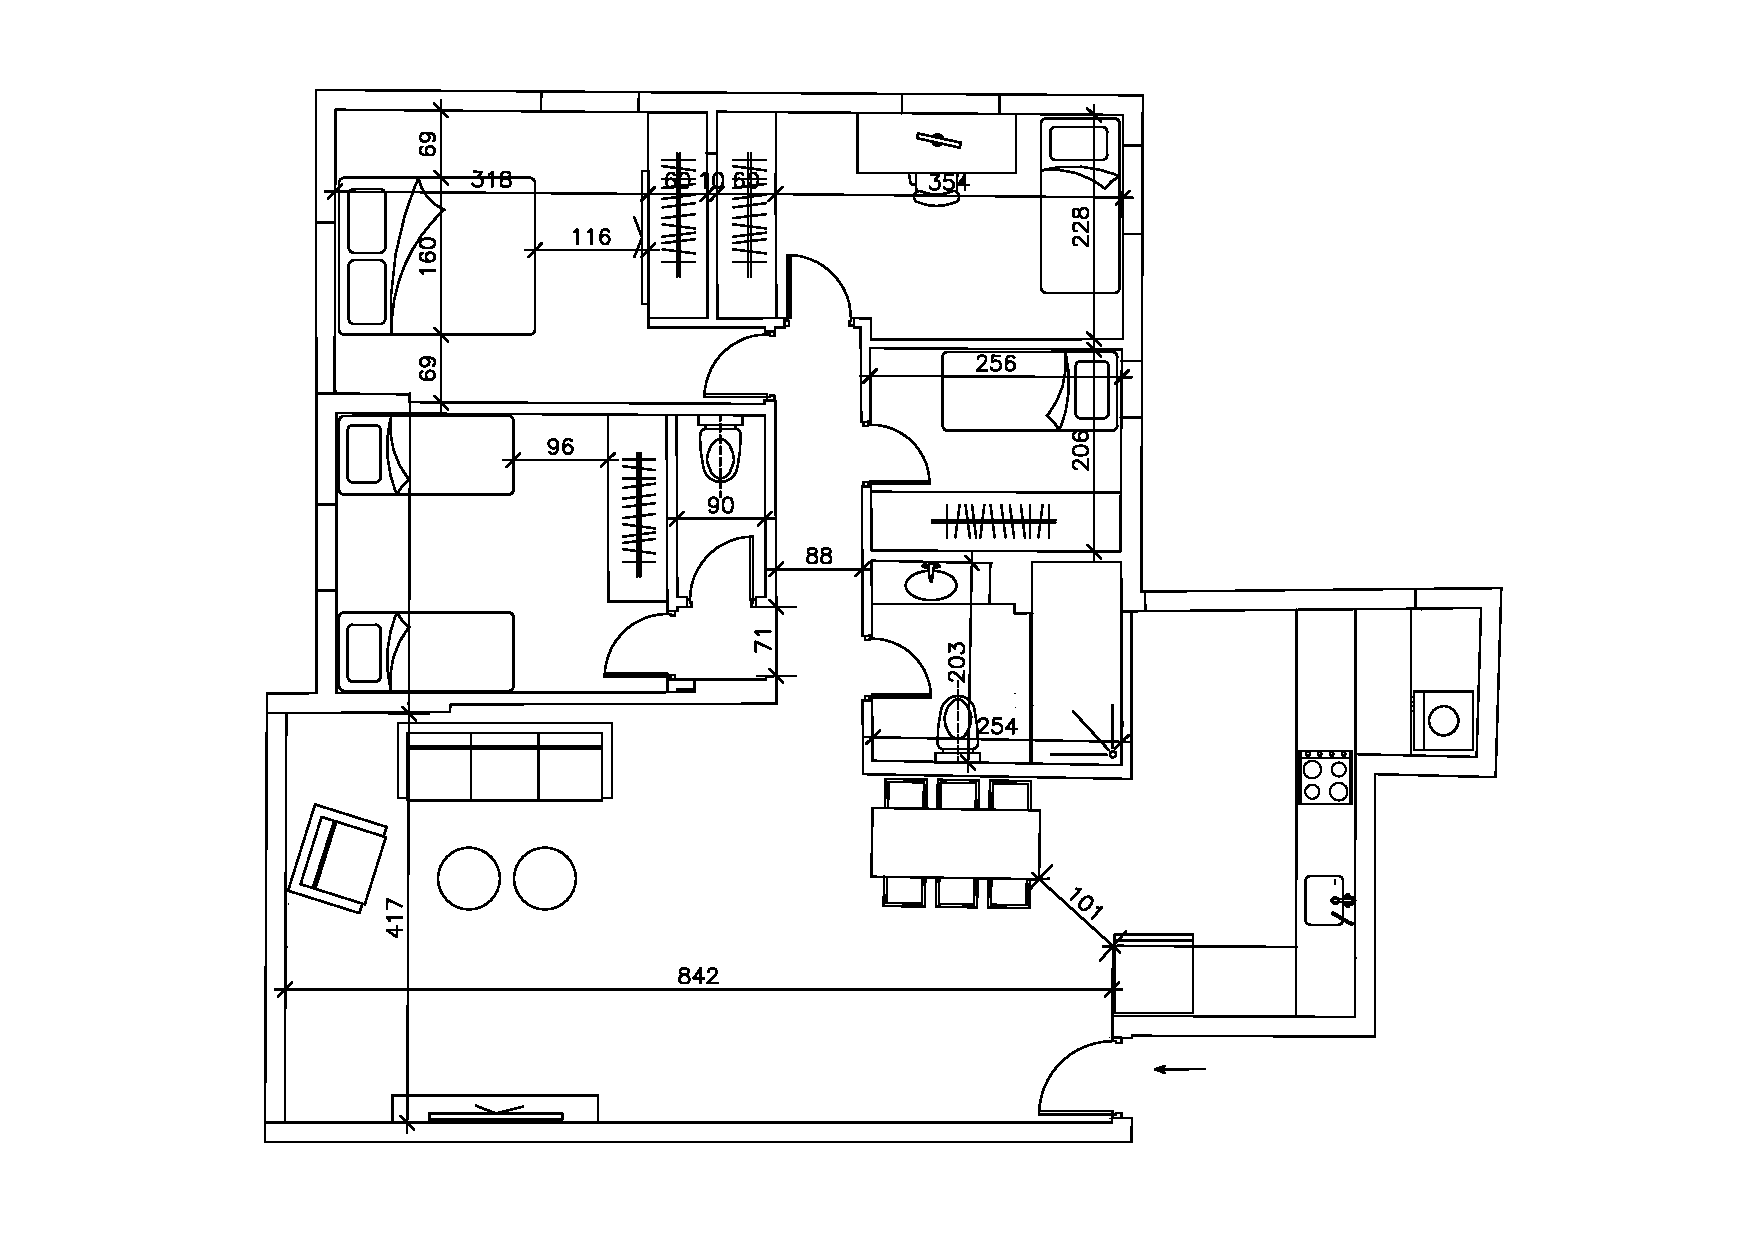door: (1020, 1036, 1118, 1121), (595, 608, 664, 684), (782, 246, 852, 315), (698, 331, 764, 399), (687, 533, 754, 592), (880, 421, 938, 488), (875, 639, 930, 701)
wall: (266, 1125, 1127, 1141), (314, 93, 336, 711), (1143, 592, 1503, 609)
